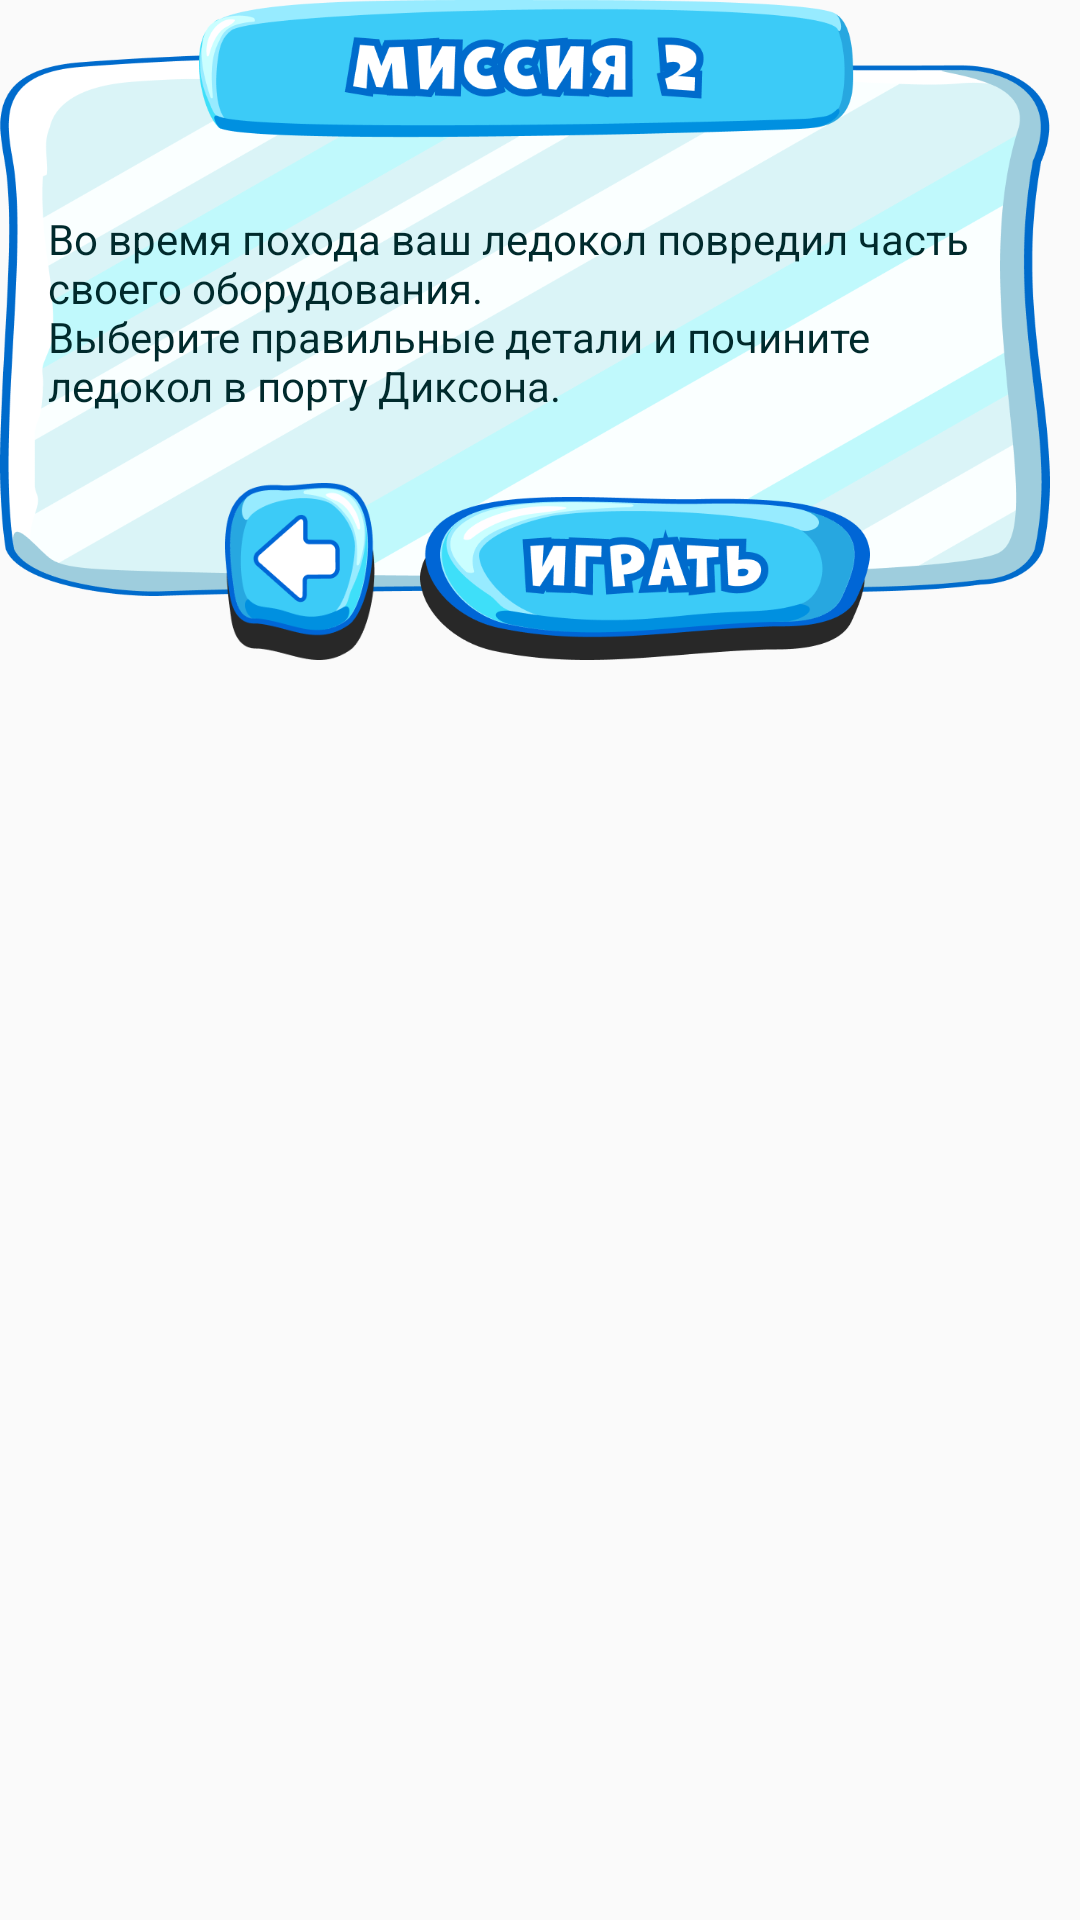

Icon click points for this 1080 × 1920 phone screenshot, format (x,y):
back: (300,571)
